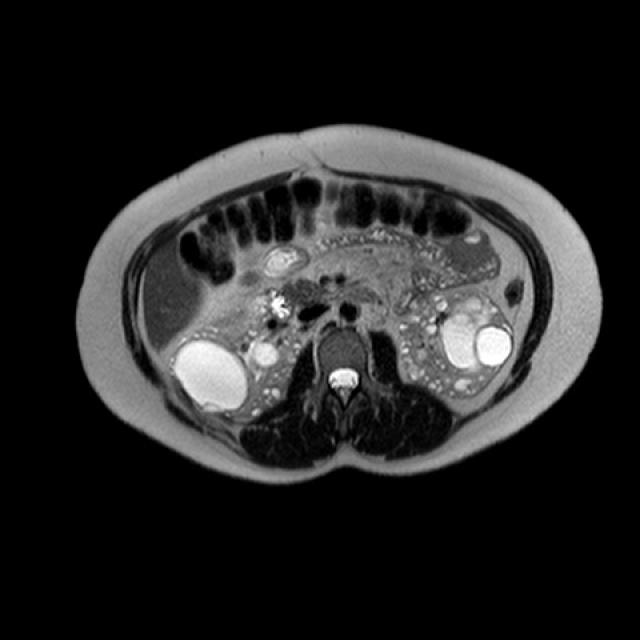sag: (169, 299, 300, 422)
sol: (397, 287, 511, 399)
